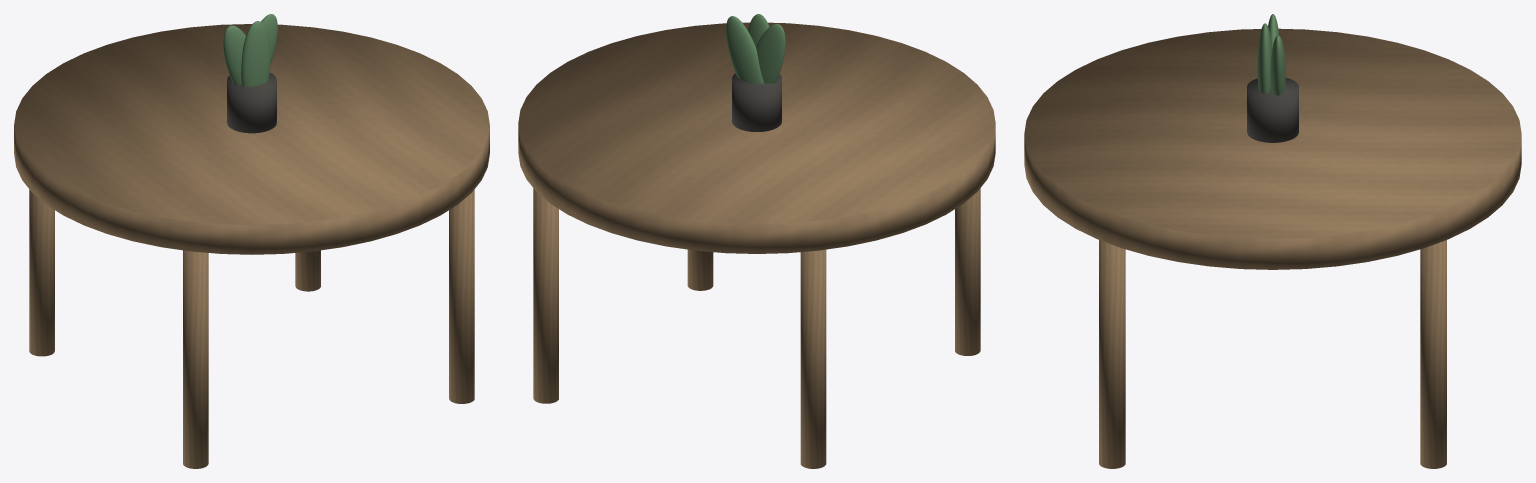
File: dining-table.glb
3 views of the same model, side by side, from view 1: azimuth 30°, elevation 25°; view 2: azimuth 150°, elevation 25°; view 3: azimuth 270°, elevation 25° (orthographic). The views are drawn at different scales.
Visible parts, largest first — view 1: CANONICAL round table top, CANONICAL table leg, CANONICAL table leg.002, CANONICAL table leg.001, ACCENT planter, ACCENT leaf.002, CANONICAL table leg.003, ACCENT leaf; view 2: CANONICAL round table top, CANONICAL table leg.001, CANONICAL table leg.003, CANONICAL table leg, ACCENT planter, ACCENT leaf.001, ACCENT leaf, CANONICAL table leg.002; view 3: CANONICAL round table top, CANONICAL table leg.002, CANONICAL table leg.003, ACCENT planter, ACCENT leaf.002, ACCENT leaf.001.
Boxes of the visible parts, x1,y1,x2,y2 form: CANONICAL round table top: [14, 24, 489, 254]; CANONICAL table leg: [183, 250, 208, 468]; CANONICAL table leg.002: [449, 189, 474, 403]; CANONICAL table leg.001: [29, 189, 54, 356]; ACCENT planter: [227, 73, 276, 133]; ACCENT leaf.002: [241, 21, 270, 86]; CANONICAL table leg.003: [295, 250, 320, 291]; ACCENT leaf: [223, 25, 245, 85]; CANONICAL round table top: [518, 22, 995, 253]; CANONICAL table leg.001: [800, 249, 826, 468]; CANONICAL table leg.003: [533, 188, 558, 403]; CANONICAL table leg: [955, 188, 980, 355]; ACCENT planter: [732, 73, 781, 131]; ACCENT leaf.001: [726, 16, 763, 83]; ACCENT leaf: [756, 24, 785, 83]; CANONICAL table leg.002: [687, 249, 713, 290]; CANONICAL round table top: [1024, 28, 1521, 269]; CANONICAL table leg.002: [1099, 240, 1125, 468]; CANONICAL table leg.003: [1420, 240, 1446, 468]; ACCENT planter: [1247, 77, 1298, 142]; ACCENT leaf.002: [1257, 23, 1271, 93]; ACCENT leaf.001: [1270, 35, 1285, 95].
Bounding box in the file's own units: 1.3 × 1.07 × 1.3.
3 materials, 1 textured.
